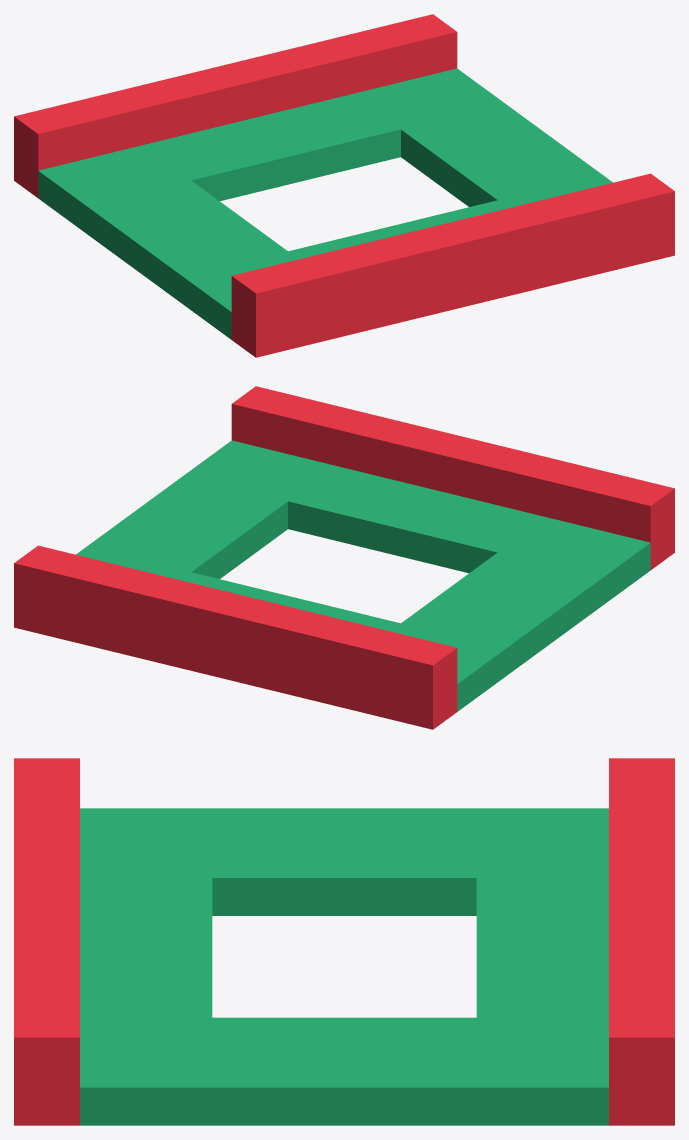
The model's file is gap.obj.
The picture shows the model from 3 angles, top to bottom: view 1: azimuth 30°, elevation 25°; view 2: azimuth 150°, elevation 25°; view 3: azimuth 270°, elevation 25°; orthographic projection. The views are drawn at different scales.
Visible parts, largest first — view 1: gap; view 2: gap; view 3: gap.
Part boxes in pixels (x1=…): gap: x1=14, y1=14, x2=674, y2=357; gap: x1=14, y1=386, x2=674, y2=729; gap: x1=14, y1=758, x2=674, y2=1125.
Bounding box in the file's own units: 0.9999 × 0.1467 × 0.9999.
